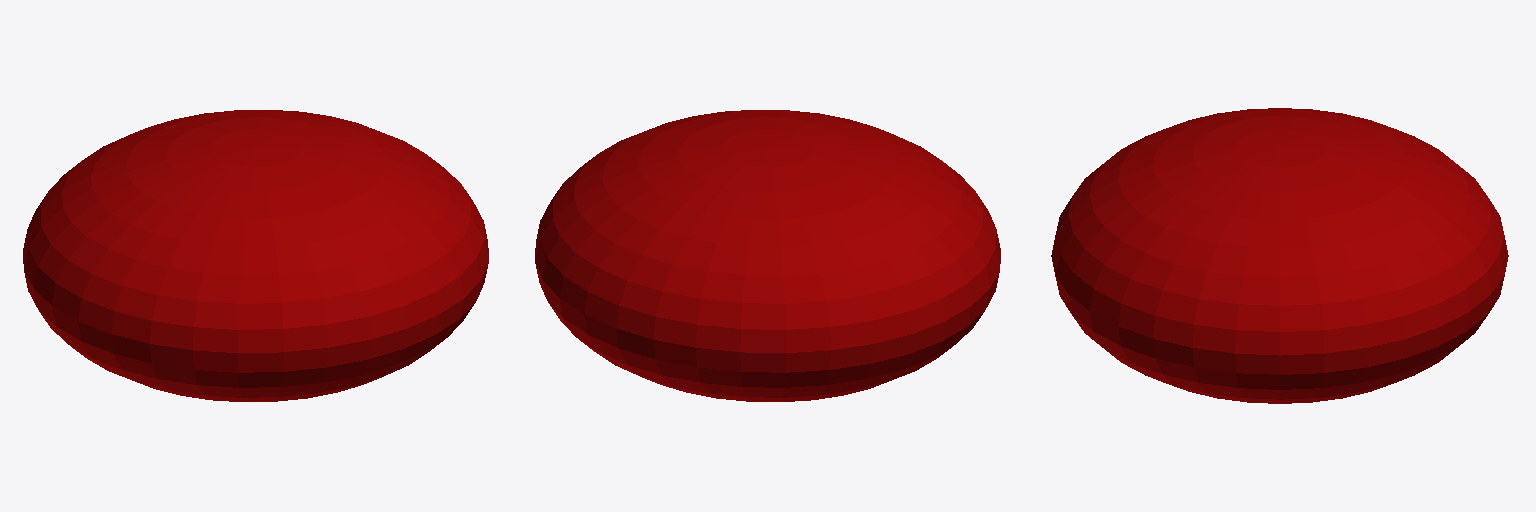
File: moya_microwave_r.obj
3 renders of one model, left to right at view 1: azimuth 30°, elevation 25°; view 2: azimuth 150°, elevation 25°; view 3: azimuth 270°, elevation 25°, orthographic.
Parts seen in each view (by area): view 1: Sphere_Sphere.005_Sphere_Sphere.009; view 2: Sphere_Sphere.005_Sphere_Sphere.009; view 3: Sphere_Sphere.005_Sphere_Sphere.009.
Part boxes in pixels (x1,y1,x2,y2): Sphere_Sphere.005_Sphere_Sphere.009: (23, 110, 488, 401); Sphere_Sphere.005_Sphere_Sphere.009: (535, 110, 1000, 401); Sphere_Sphere.005_Sphere_Sphere.009: (1051, 108, 1508, 403).
Size of the model in its own units: 0.4594 by 0.2363 by 0.4463.